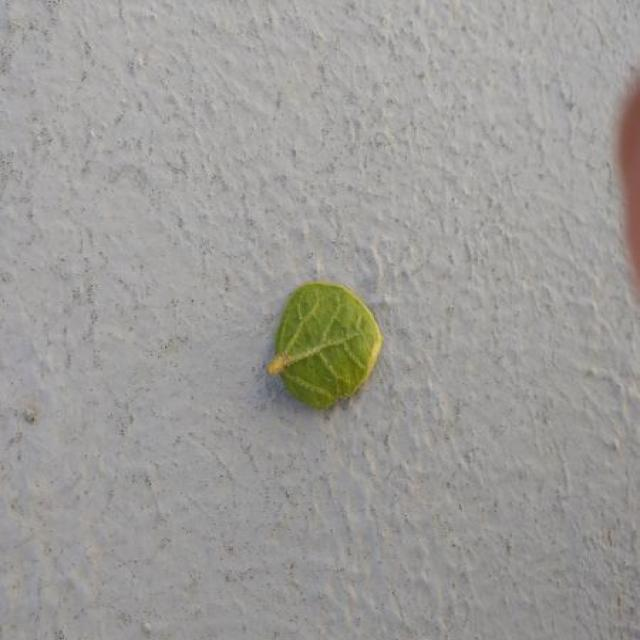leaf: (264, 280, 383, 410)
